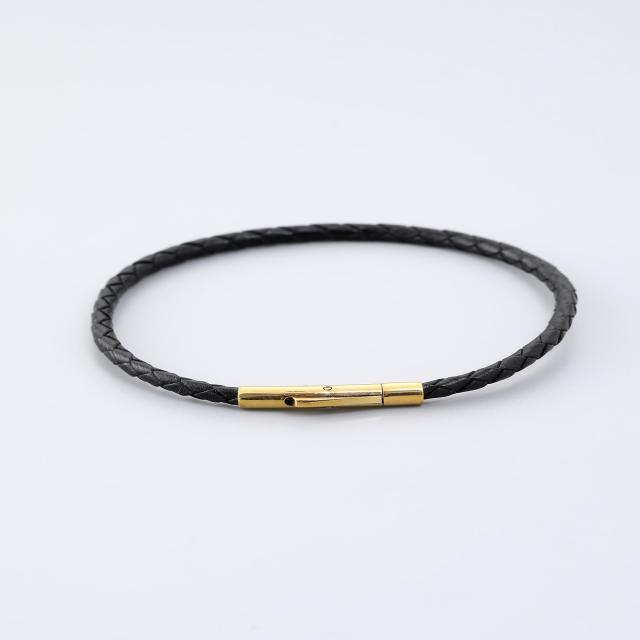bracelet: (22, 167, 640, 483)
